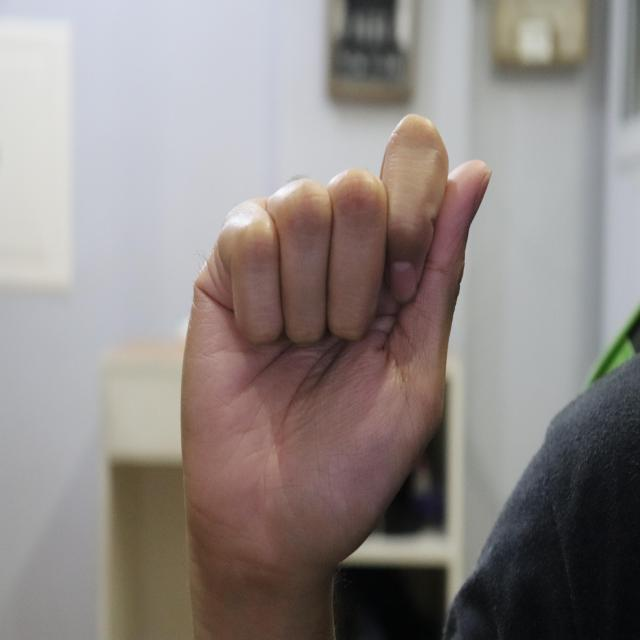A: (180, 114, 491, 566)
